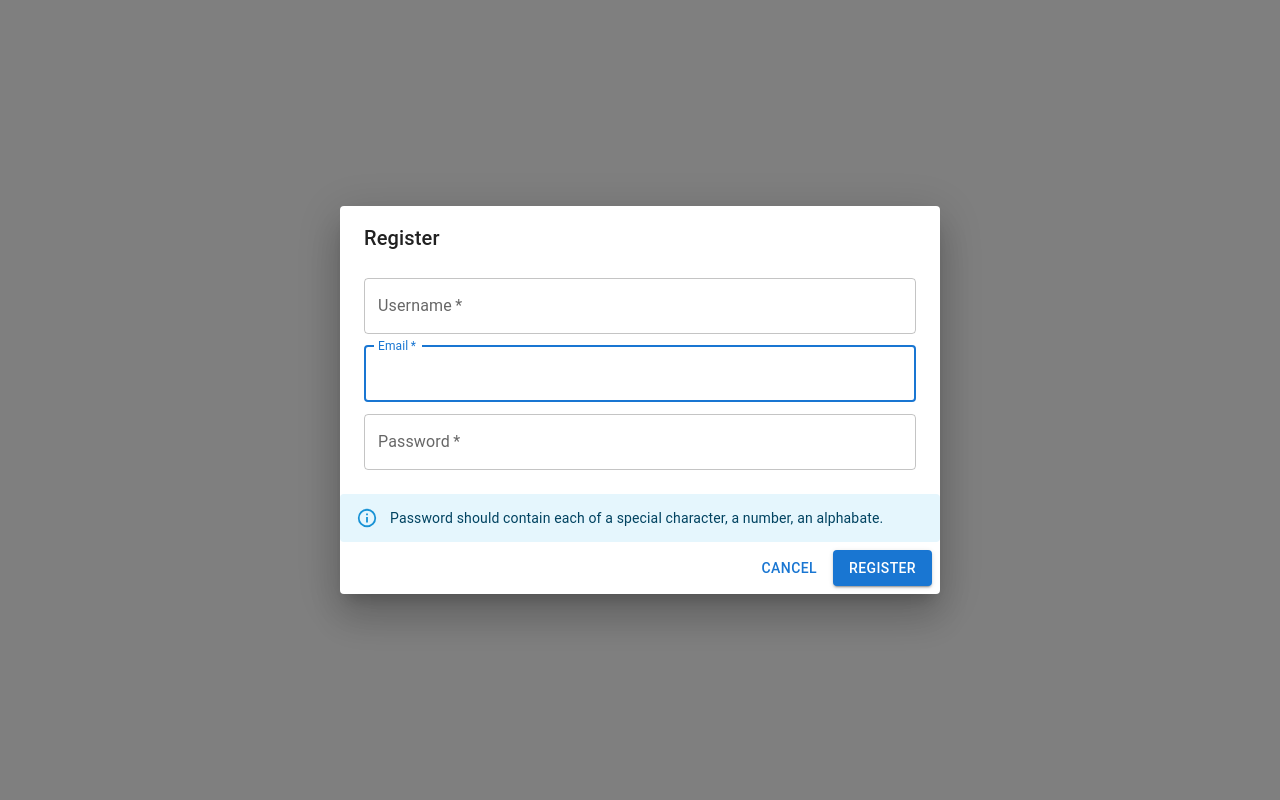
Test case: Login Page tests › Check if registration succedes when given proper inputs.
The image size is (1280, 800).
Type "JayPatel" into the field labelled "Username *" at (640, 306), box 364,278 -> 916,334
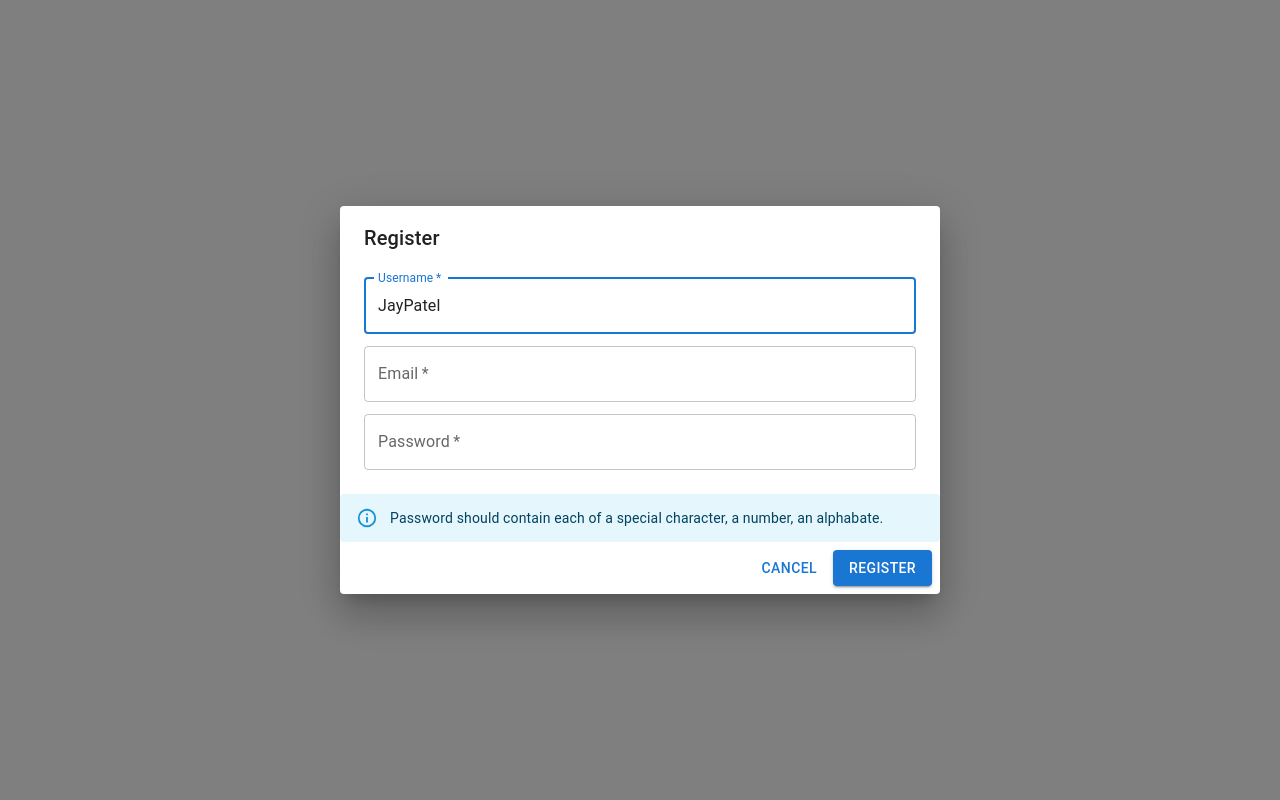
Type "Jay@Patel.com" into the field labelled "Email *" at (640, 374), box 364,346 -> 916,402
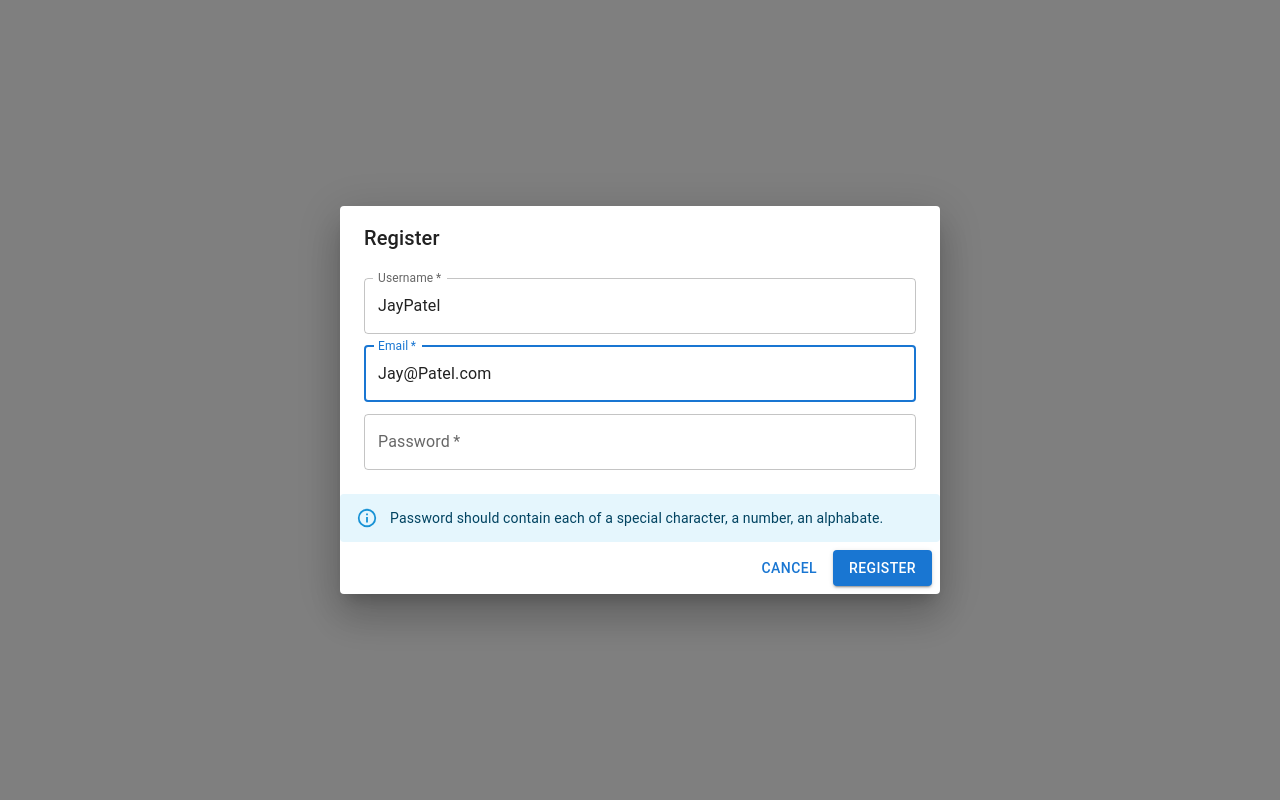
Type "JayPatel@1234565" into the password field labelled "Password *" at (640, 442), box 364,414 -> 916,470
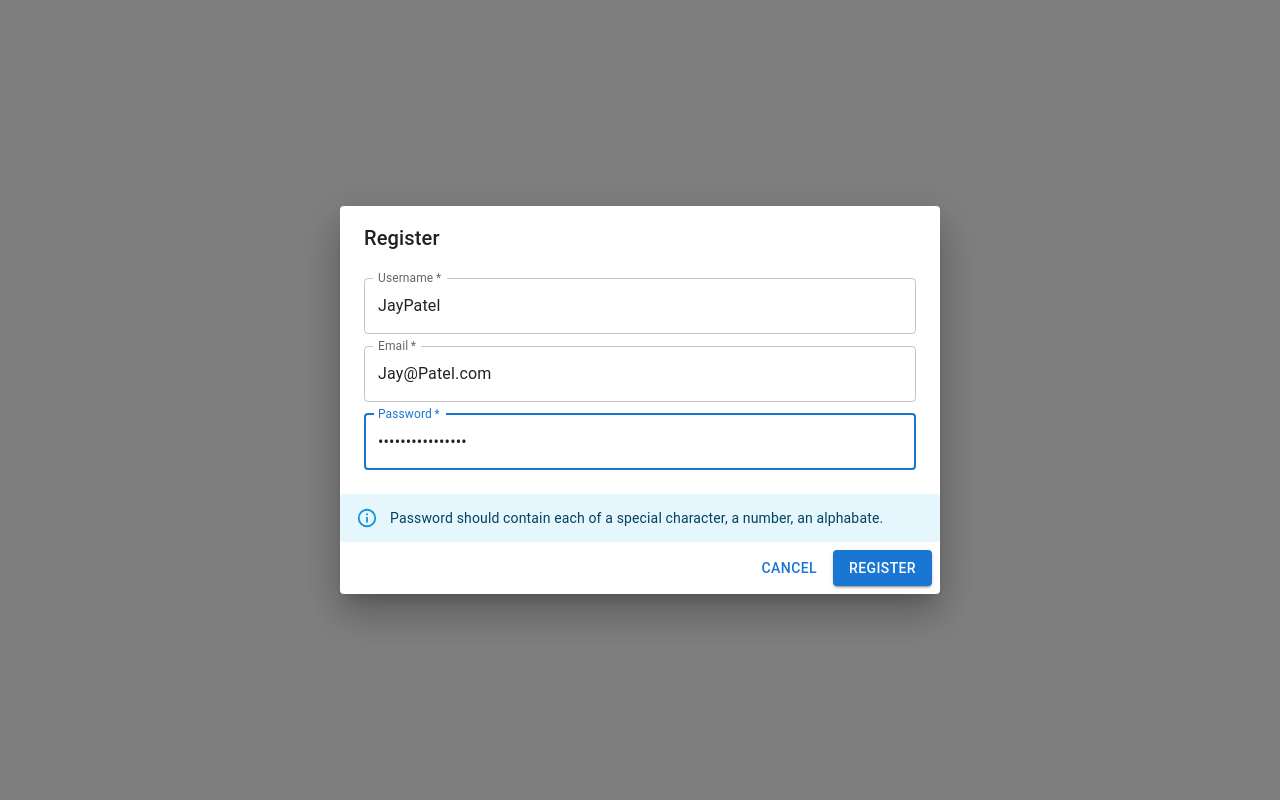
Click the button with test id "reg_submit" at (882, 568), box 833,550 -> 932,586
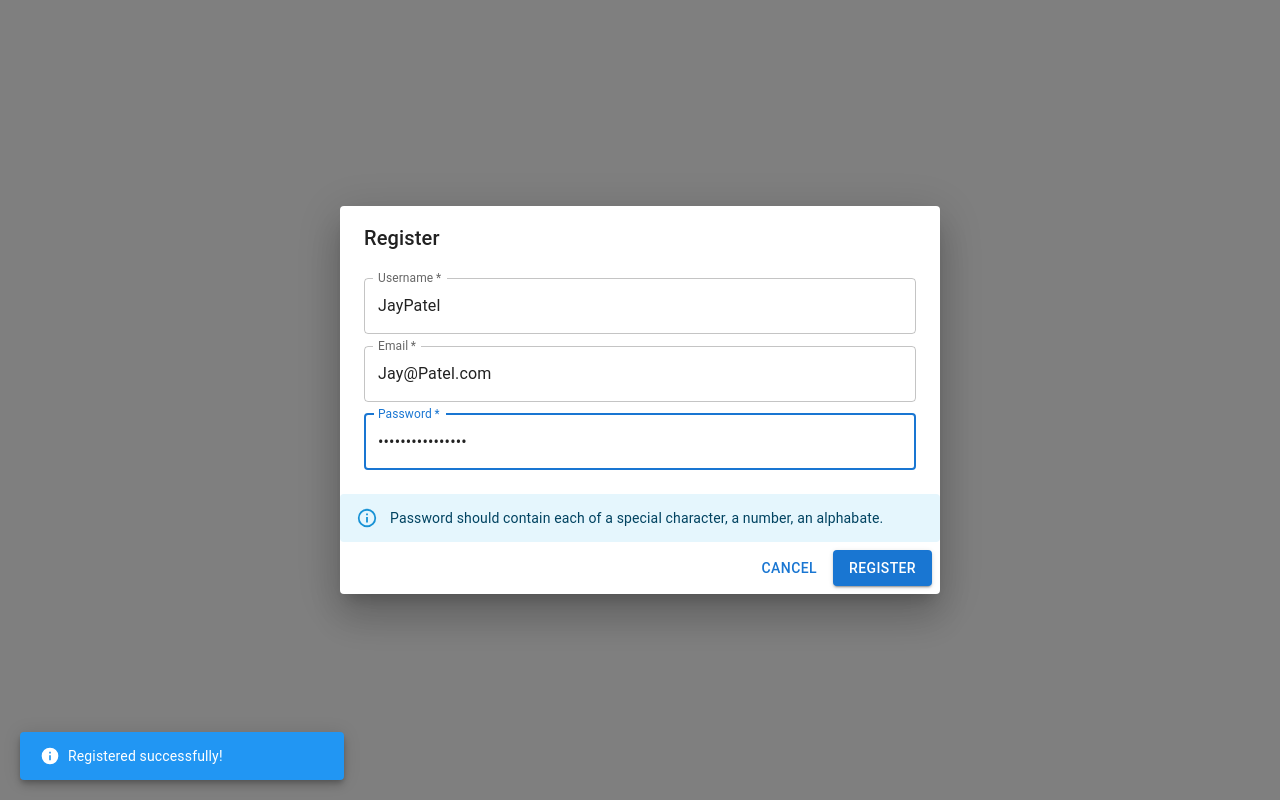
Check: the text "Registered successfully!" is shown, box 40,746 -> 223,766
